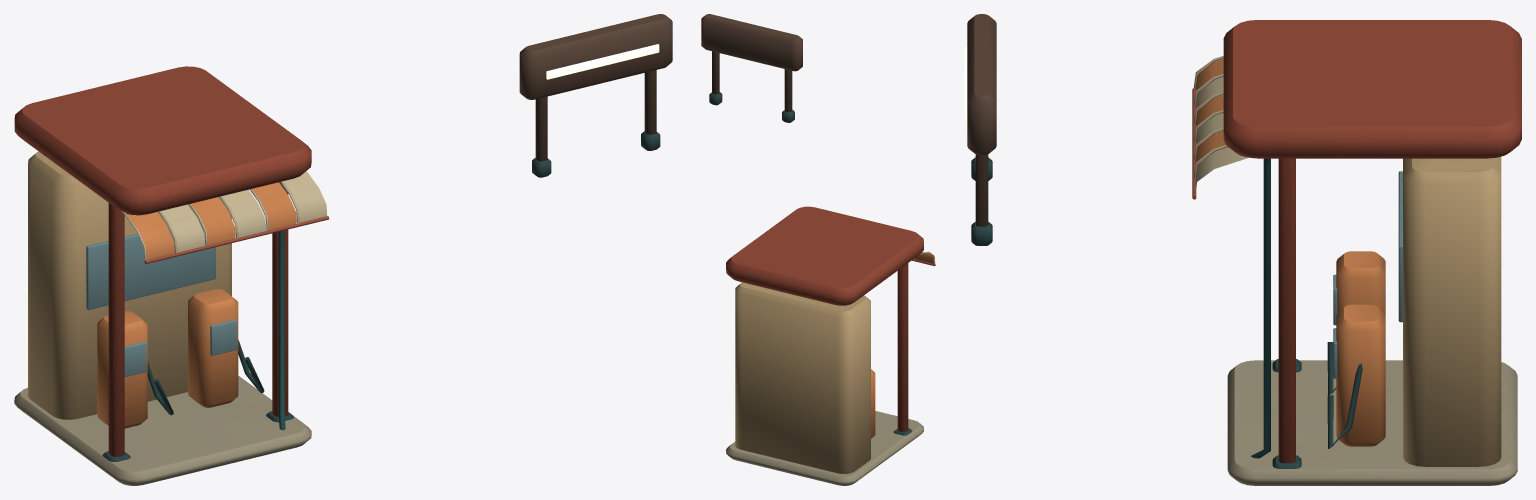
The model's file is valley_fuel_4.glb.
3 views of the same model, side by side, from view 1: azimuth 30°, elevation 25°; view 2: azimuth 150°, elevation 25°; view 3: azimuth 270°, elevation 25° (orthographic). The views are drawn at different scales.
Visible parts, largest first — view 1: Fuel4; view 2: Fuel4; view 3: Fuel4.
Boxes of the visible parts, bbox=[...] form: Fuel4: bbox=[14, 14, 672, 485]; Fuel4: bbox=[701, 14, 935, 485]; Fuel4: bbox=[964, 14, 1521, 485].
Bounding box in the file's own units: 5.28 × 5.06 × 4.77.
